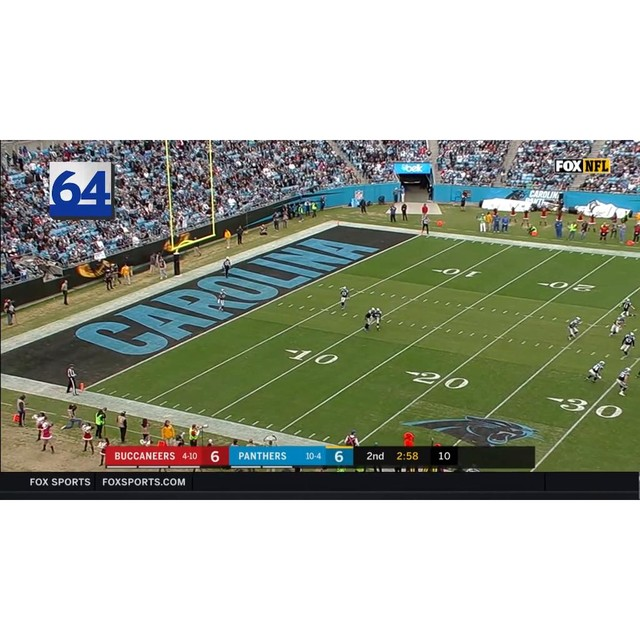american-football-player: (62, 403, 79, 430), (619, 331, 635, 359), (615, 368, 631, 396), (584, 361, 604, 382), (81, 423, 94, 453), (98, 438, 108, 468), (568, 317, 581, 339), (372, 307, 383, 332), (218, 287, 226, 312)
referee: (65, 363, 79, 396), (222, 255, 232, 277)
